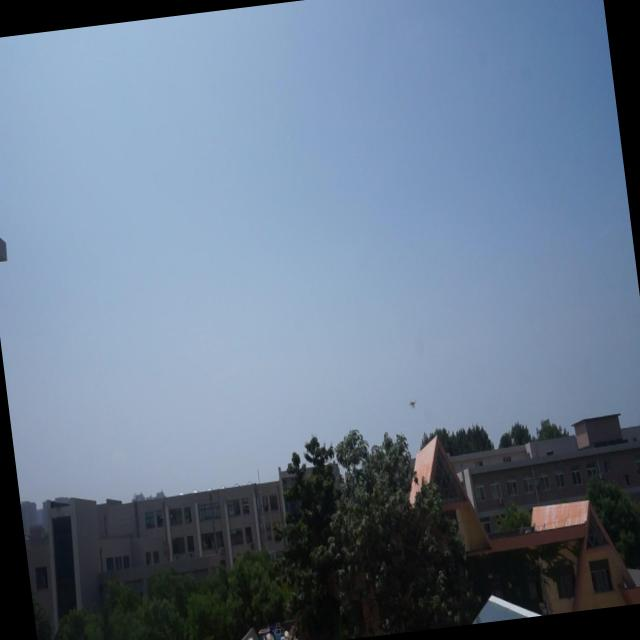drone: (406, 394, 417, 416)
